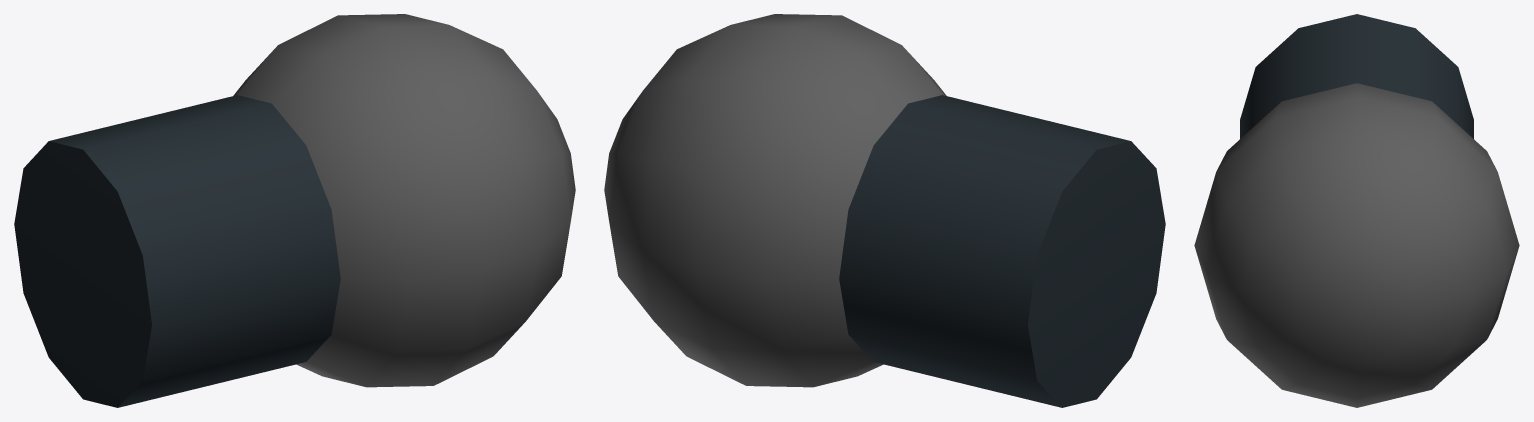
The model's file is robot_arm_upper.fbx.
The picture shows the model from 3 angles, left to right: view 1: azimuth 30°, elevation 25°; view 2: azimuth 150°, elevation 25°; view 3: azimuth 270°, elevation 25°; orthographic projection. The views are drawn at different scales.
Parts seen in each view (by area): view 1: Sphere, Cylinder.009; view 2: Sphere, Cylinder.009; view 3: Sphere, Cylinder.009.
Boxes of the visible parts, left/top/right/bottom form: Sphere: left=233, top=14, right=575, bottom=387; Cylinder.009: left=14, top=95, right=340, bottom=407; Sphere: left=604, top=14, right=946, bottom=387; Cylinder.009: left=839, top=95, right=1165, bottom=407; Sphere: left=1194, top=83, right=1519, bottom=407; Cylinder.009: left=1240, top=14, right=1473, bottom=138.
Bounding box in the file's own units: 0.0639 × 0.0452 × 0.0452.
